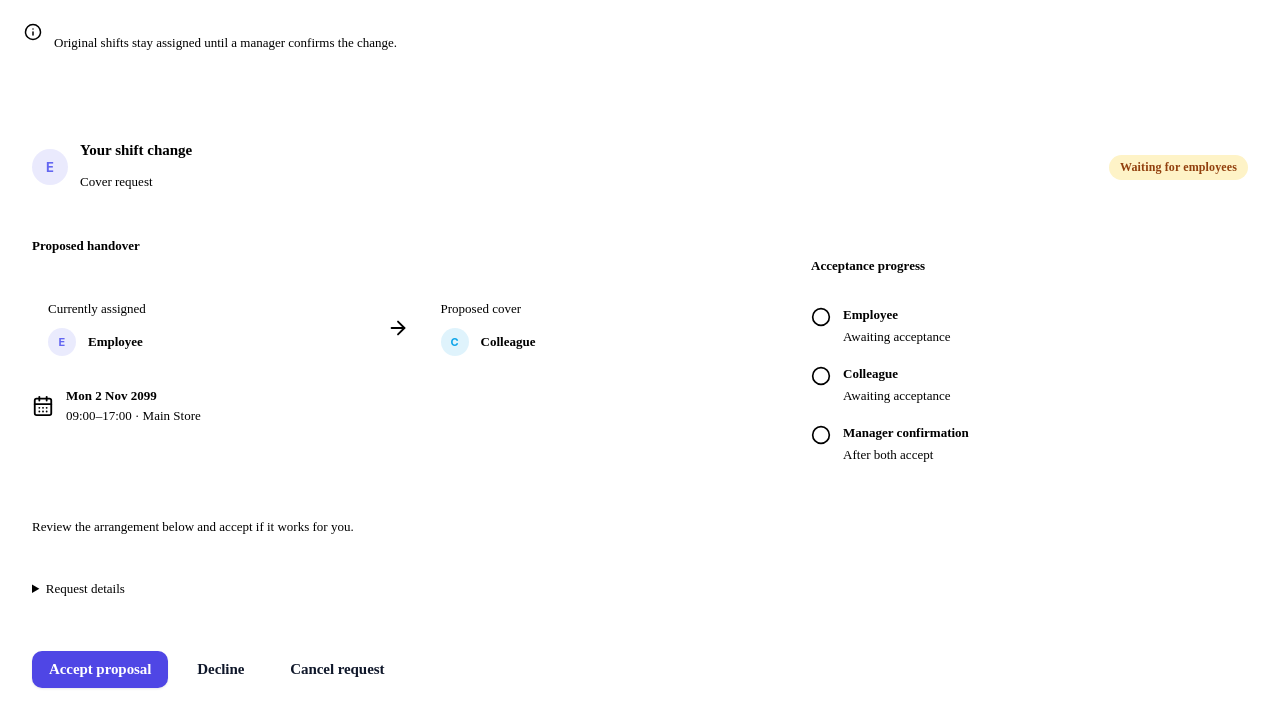
Test case: shows reported write failures and releases busy controls
The width and height of the screenshot is (1280, 720).
(page scrolled)
Check: the text "Waiting for employees" is shown, box x1=1109 y1=155 x2=1248 y2=180
Step 1. Click the button "Accept proposal" → (100, 670), box x1=32 y1=651 x2=168 y2=688
(page scrolled)
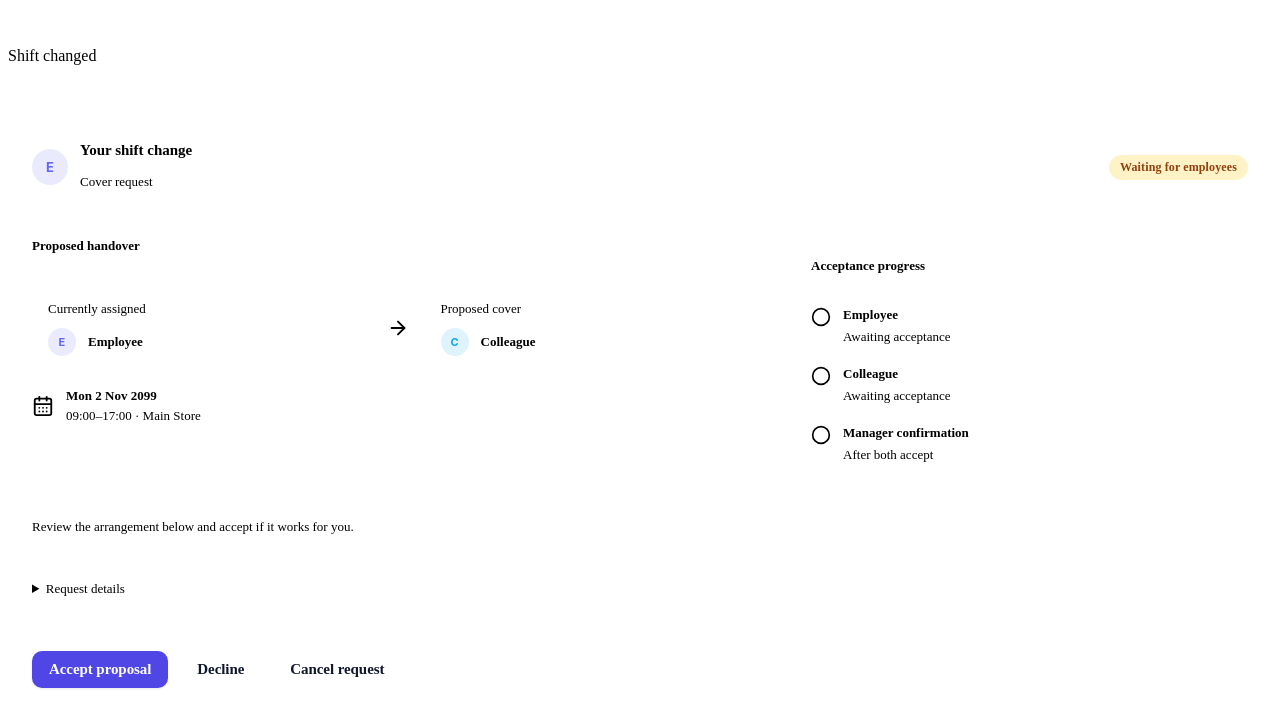
Check: the message "Shift changed" is shown, box x1=8 y1=47 x2=96 y2=64
